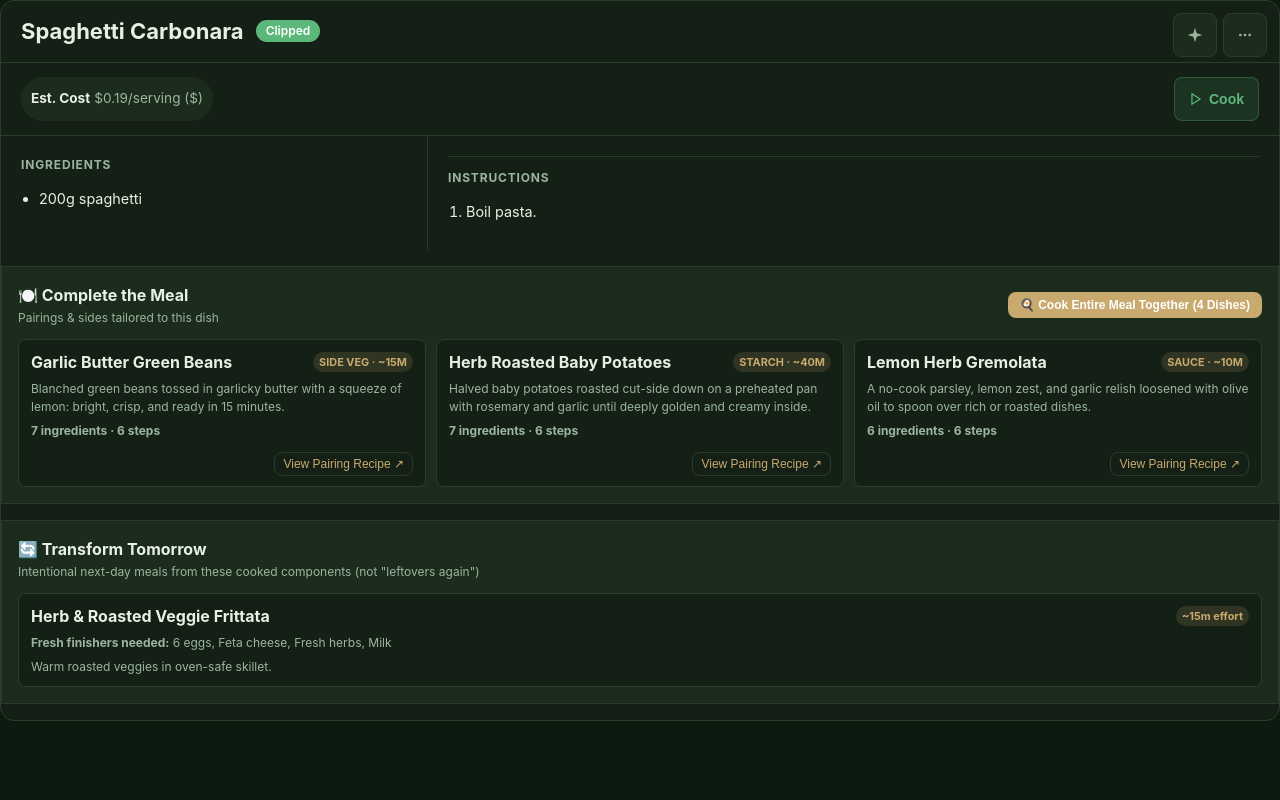
Test: RecipeCard — edit and notes actions › shows the note count beside the Notes action
Click the button named "More recipe options": (1245, 35) 1223,13 -> 1267,57
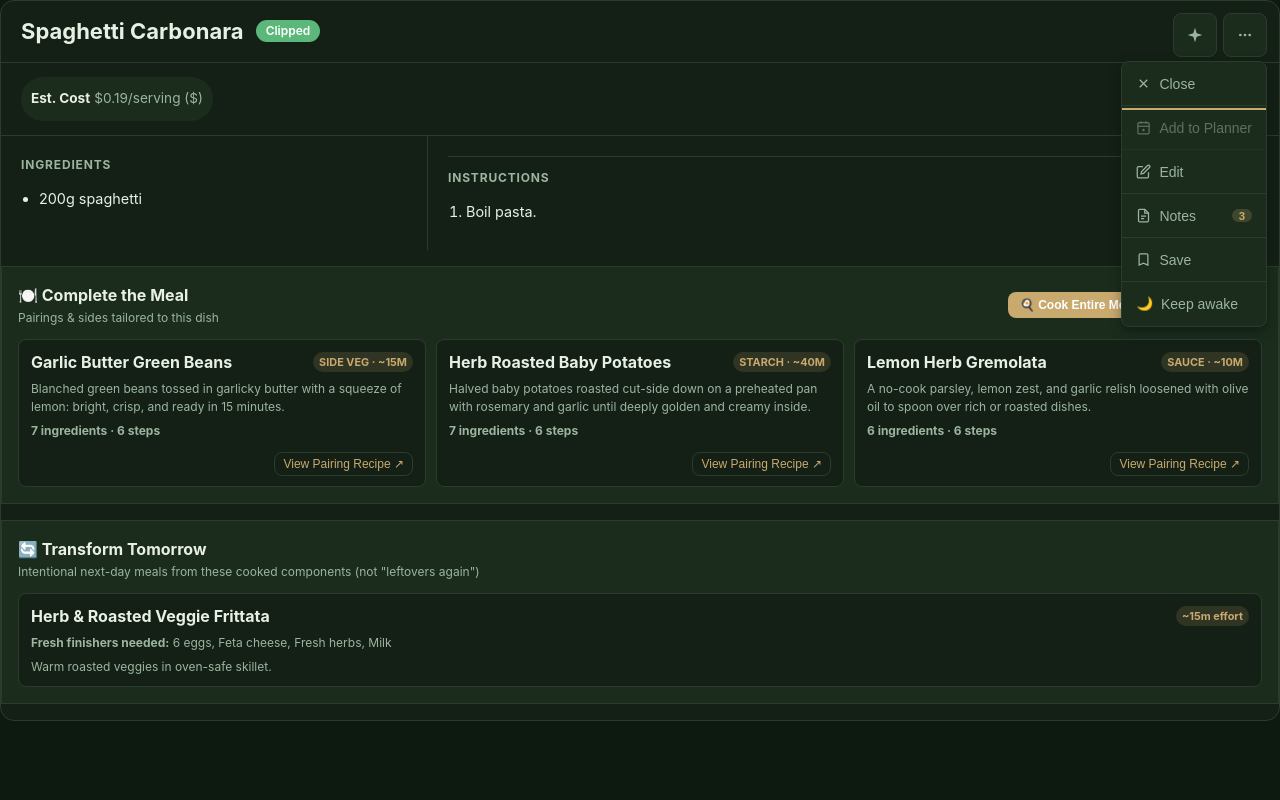
Check: the menu item "Notes 3" is shown, box 1122,194 -> 1266,238
